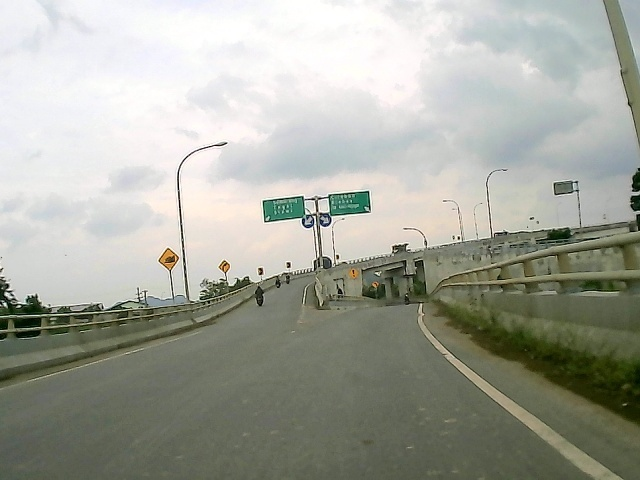Hati-hati: (348, 267, 359, 279)
Jalanan menanjak: (158, 247, 181, 271)
Tikungan ke kanan: (218, 259, 230, 274)
